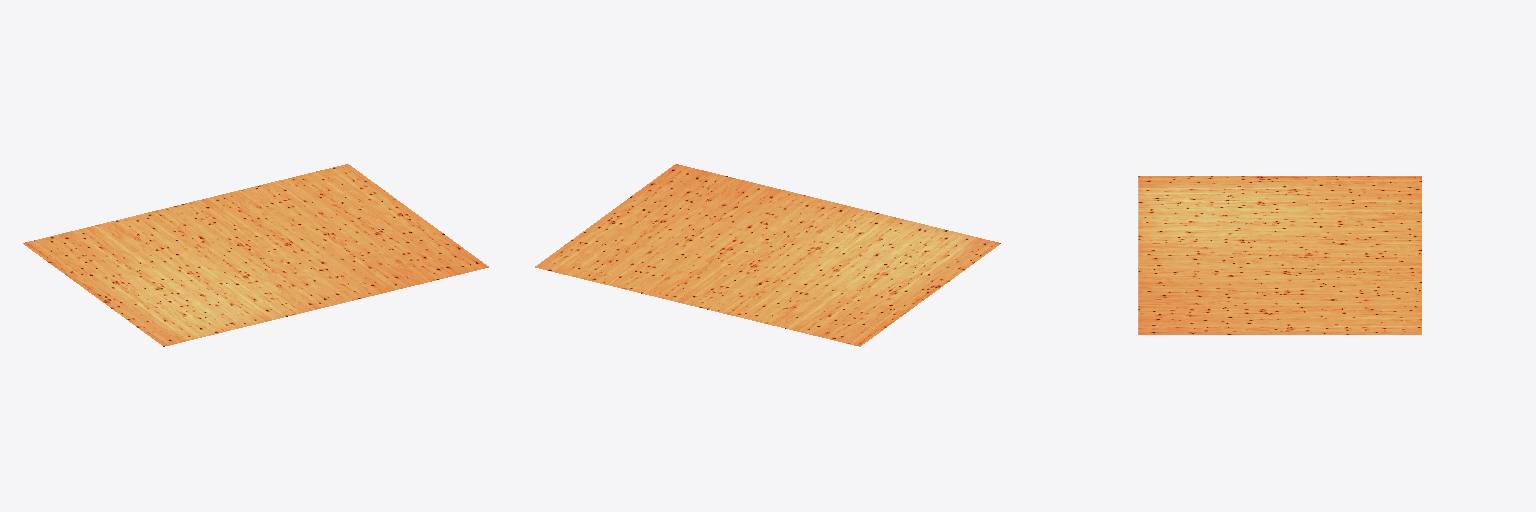
3 renders of one model, left to right at view 1: azimuth 30°, elevation 25°; view 2: azimuth 150°, elevation 25°; view 3: azimuth 270°, elevation 25°, orthographic.
Parts seen in each view (by area): view 1: Wall_Ground.002; view 2: Wall_Ground.002; view 3: Wall_Ground.002.
Part boxes in pixels (left/top/right/bottom): Wall_Ground.002: left=23, top=164, right=488, bottom=346; Wall_Ground.002: left=535, top=164, right=1000, bottom=346; Wall_Ground.002: left=1138, top=176, right=1421, bottom=334.
Size of the model in its own units: 4.99 by 0.0199 by 3.75.
1 materials, 1 textured.